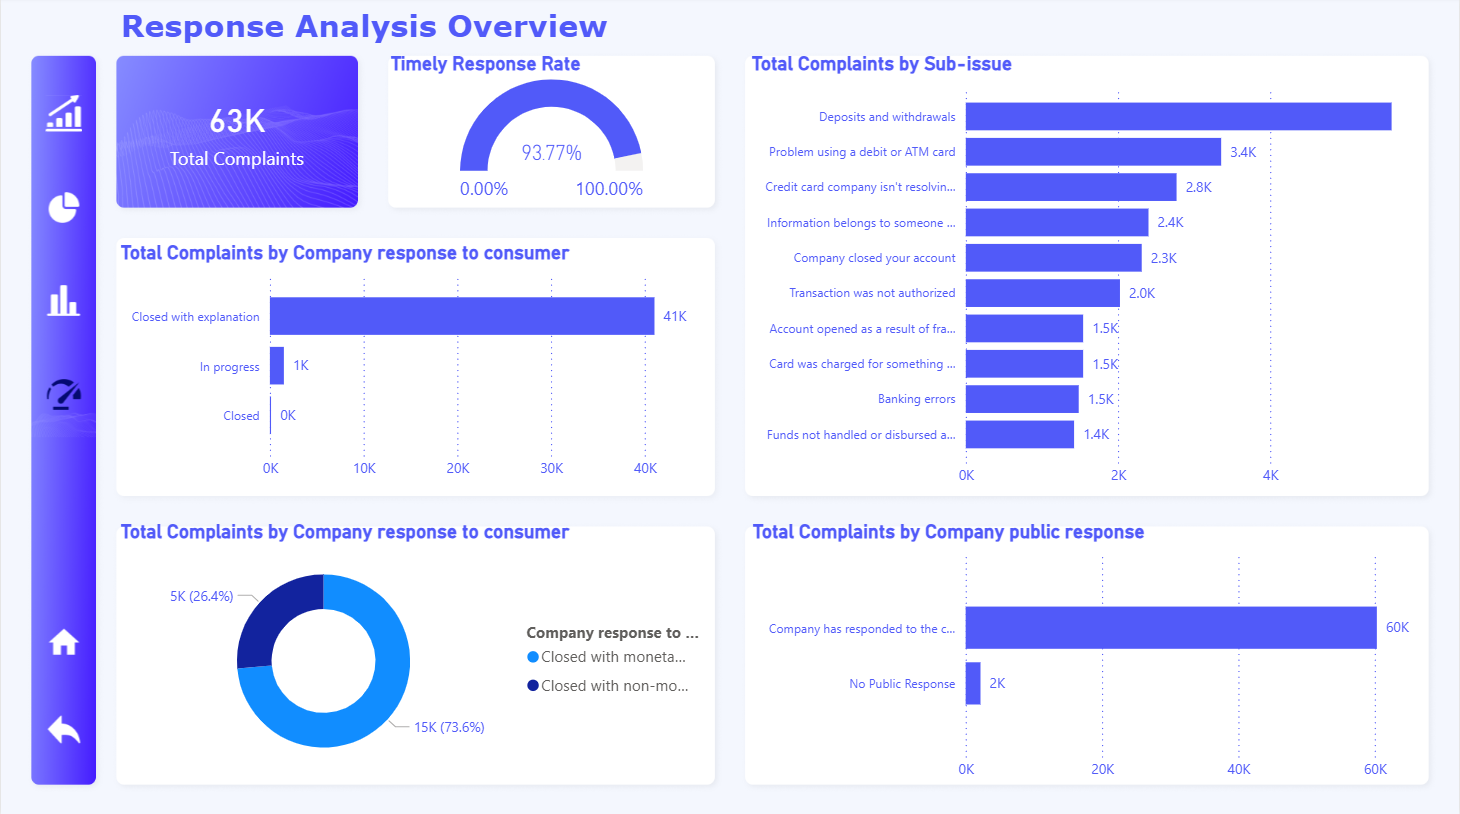

Layout of this report page (visuals, bound fields, positions):
{"tool":"powerbi","page":{"name":"Response Analysis","canvas":[1280,720],"ordinal":4},"visuals":[{"type":"clusteredBarChart","fields":{"Category":["Dim Issue.Sub-issue"],"Y":["Measures (2).Total Complaints"]},"box":[654.1,48.3,600.6,389.9],"z":0},{"type":"clusteredBarChart","fields":{"Y":["Measures (2).Total Complaints"],"Category":["Dim Public Response.Company public response"]},"box":[655,459.2,598,237.1],"z":1000},{"type":"donutChart","fields":{"Y":["Measures (2).Total Complaints"],"Category":["Dim Consumer Response.Company response to consumer"]},"box":[100,459.5,520.2,228.6],"z":2000},{"type":"clusteredBarChart","fields":{"Category":["Dim Consumer Response.Company response to consumer"],"Y":["Measures (2).Total Complaints"]},"box":[100.1,214.2,519.8,217.8],"z":3000},{"type":"gauge","title":"Timely Response Rate","fields":{"Y":["Measures (2).% Timely Response Rate"]},"box":[337.1,48.4,292.6,140.4],"z":4000},{"type":"card","fields":{"Values":["Measures (2).Total Complaints"]},"box":[99.7,48.9,214.4,135.4],"z":5000},{"type":"textbox","box":[100.1,3.5,674.3,47.4],"z":11000},{"type":"actionButton","box":[35.2,64,40.4,76.4],"z":12000},{"type":"actionButton","box":[35.2,146.3,40.4,76.4],"z":13000},{"type":"actionButton","box":[35.2,228.5,40.4,76.4],"z":14000},{"type":"actionButton","box":[35.2,310.8,40.4,76.4],"z":15000},{"type":"actionButton","box":[35.1,528.6,40.4,76.4],"z":16000},{"type":"actionButton","box":[35.1,605,40.4,76.4],"z":17000}]}

Visuals, with their boxes in screenshot pixels (x1, y1, x2, y2), scaled from the page's 1280x720 canvas onto the 1460x814 screenshot:
clusteredBarChart - Dim Issue.Sub-issue x Measures (2).Total Complaints: (746,55,1431,495)
clusteredBarChart - Measures (2).Total Complaints x Dim Public Response.Company public response: (747,519,1429,787)
donutChart - Measures (2).Total Complaints x Dim Consumer Response.Company response to consumer: (114,519,707,778)
clusteredBarChart - Dim Consumer Response.Company response to consumer x Measures (2).Total Complaints: (114,242,707,488)
"Timely Response Rate" gauge: (385,55,718,213)
card - Measures (2).Total Complaints: (114,55,358,208)
textbox: (114,4,883,58)
actionButton: (40,72,86,159)
actionButton: (40,165,86,252)
actionButton: (40,258,86,345)
actionButton: (40,351,86,438)
actionButton: (40,598,86,684)
actionButton: (40,684,86,770)
